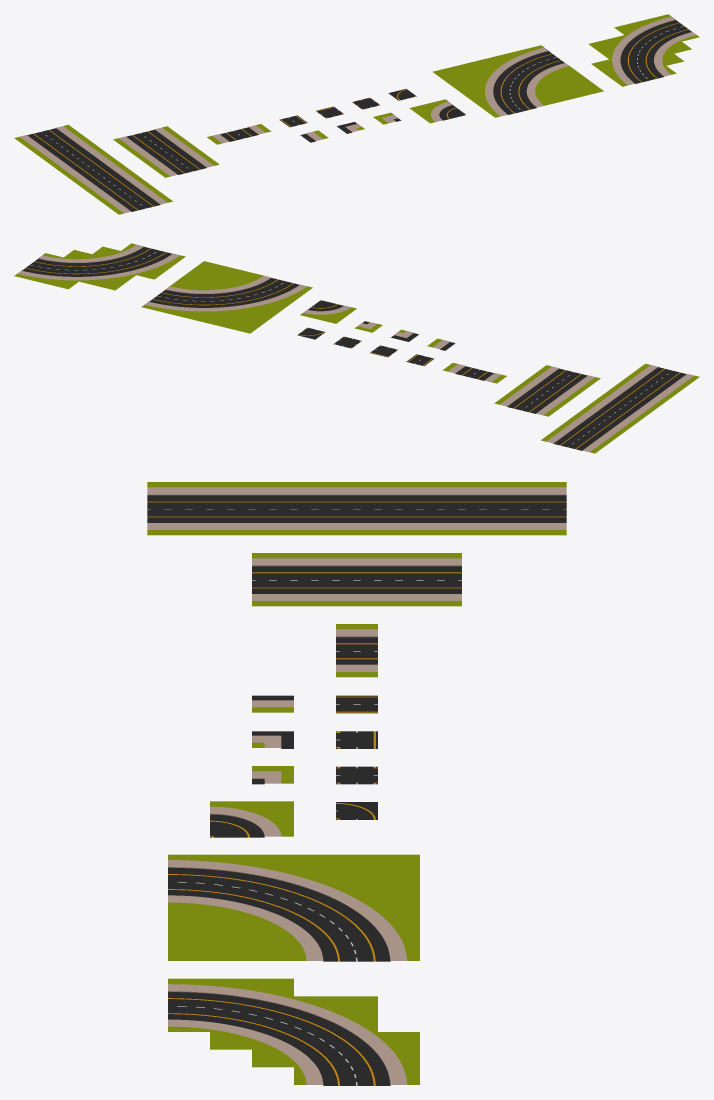
File: Road Tileset.glb
The picture shows the model from 3 angles, top to bottom: view 1: azimuth 30°, elevation 25°; view 2: azimuth 150°, elevation 25°; view 3: azimuth 270°, elevation 25°; orthographic projection. The views are drawn at different scales.
Visible parts, largest first — view 1: Curve, Straight Road Strip Long, Curve Jigsaw, Straight Road Strip Mid, Sharp Corner with Sidewalk, Straight Road Strip Short; view 2: Curve, Straight Road Strip Long, Curve Jigsaw, Straight Road Strip Mid, Sharp Corner with Sidewalk, Straight Road Strip Short; view 3: Curve, Straight Road Strip Long, Curve Jigsaw, Straight Road Strip Mid, Sharp Corner with Sidewalk, Straight Road Strip Short.
Part boxes in pixels (<box>): Curve: <box>432,45,603,117</box>; Straight Road Strip Long: <box>14,124,172,214</box>; Curve Jigsaw: <box>588,14,699,86</box>; Straight Road Strip Mid: <box>113,126,219,177</box>; Sharp Corner with Sidewalk: <box>409,99,465,123</box>; Straight Road Strip Short: <box>207,124,271,144</box>; Curve: <box>141,261,312,333</box>; Straight Road Strip Long: <box>541,363,699,453</box>; Curve Jigsaw: <box>14,243,185,290</box>; Straight Road Strip Mid: <box>494,365,600,416</box>; Sharp Corner with Sidewalk: <box>300,300,356,323</box>; Straight Road Strip Short: <box>443,363,506,383</box>; Curve: <box>168,854,419,961</box>; Straight Road Strip Long: <box>147,482,566,535</box>; Curve Jigsaw: <box>168,978,419,1085</box>; Straight Road Strip Mid: <box>252,553,461,606</box>; Sharp Corner with Sidewalk: <box>210,801,293,837</box>; Straight Road Strip Short: <box>336,624,377,677</box>.
Bounding box in the file's own units: 340 × 0.2 × 100.
1 material, 1 textured.
